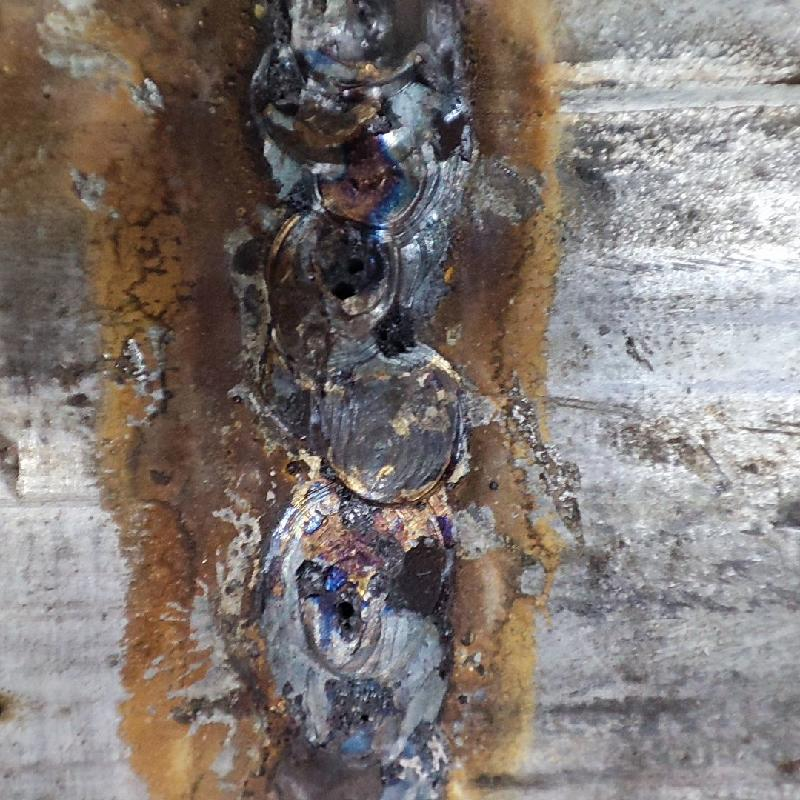Surface_pores: (293, 553, 375, 653), (314, 228, 389, 314), (346, 698, 381, 736)
